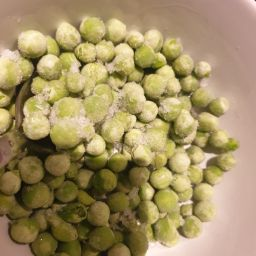Peas: (4, 11, 240, 256), (17, 70, 194, 218), (24, 121, 216, 255), (55, 30, 215, 151)
